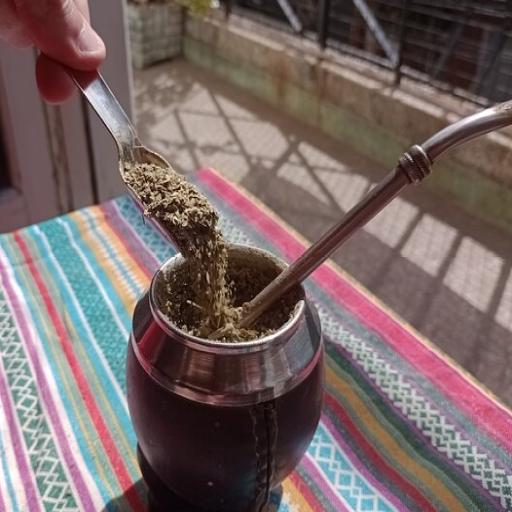mate: (127, 224, 326, 512)
